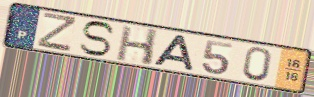0: (242, 46, 274, 83)
5: (200, 38, 236, 76)
A: (151, 33, 197, 73)
H: (114, 25, 161, 68)
S: (77, 20, 118, 57)
Z: (35, 11, 79, 54)
